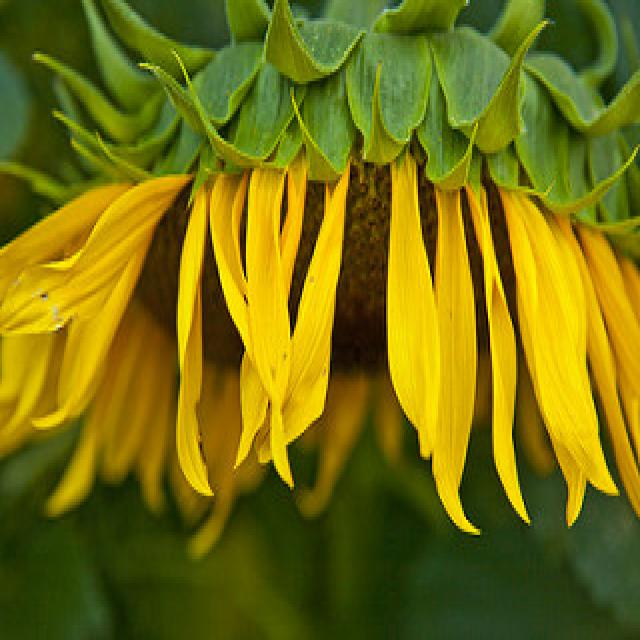sunflower: (12, 100, 640, 527)
